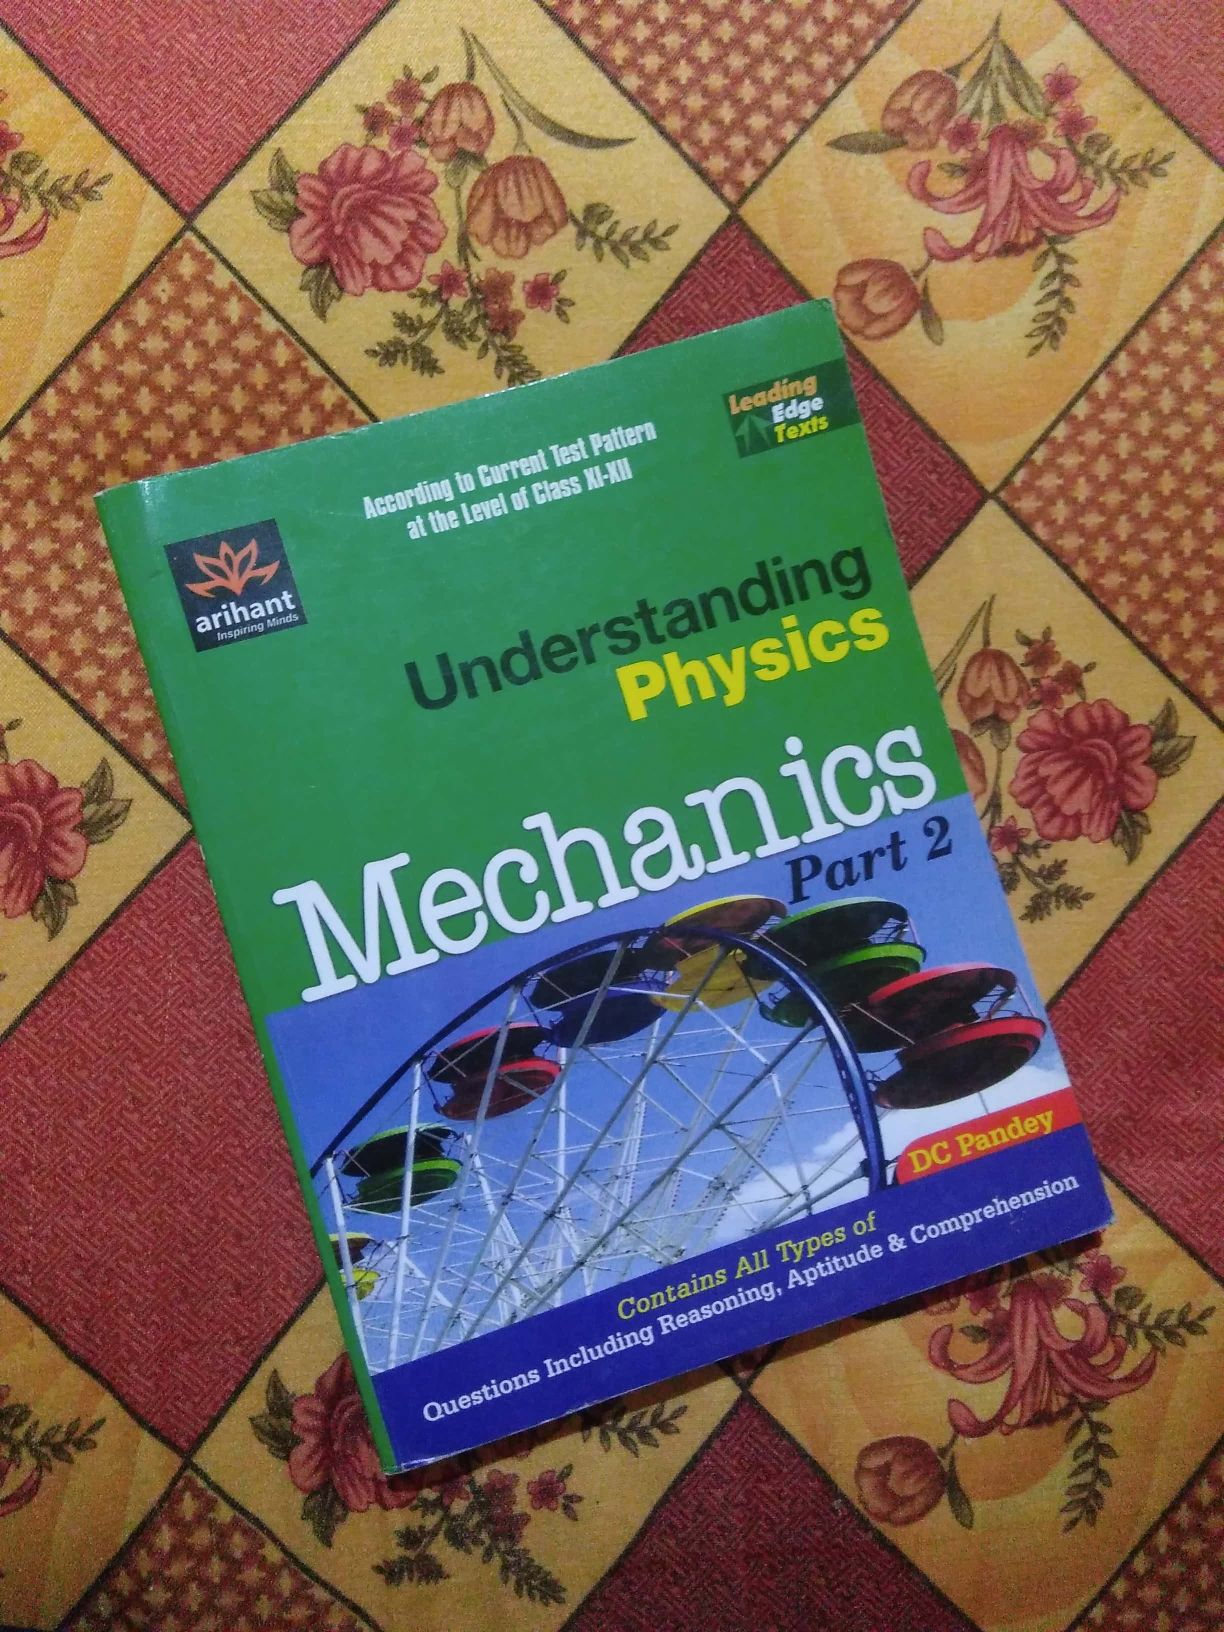mechanics: (73, 375, 1115, 1432)
